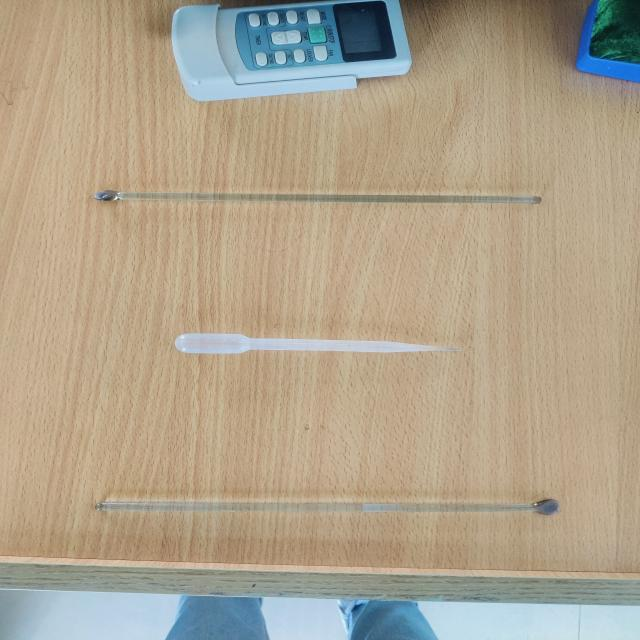Glass_Rod: (84, 450, 586, 561), (75, 158, 565, 255)
Pipette: (126, 288, 466, 399)
